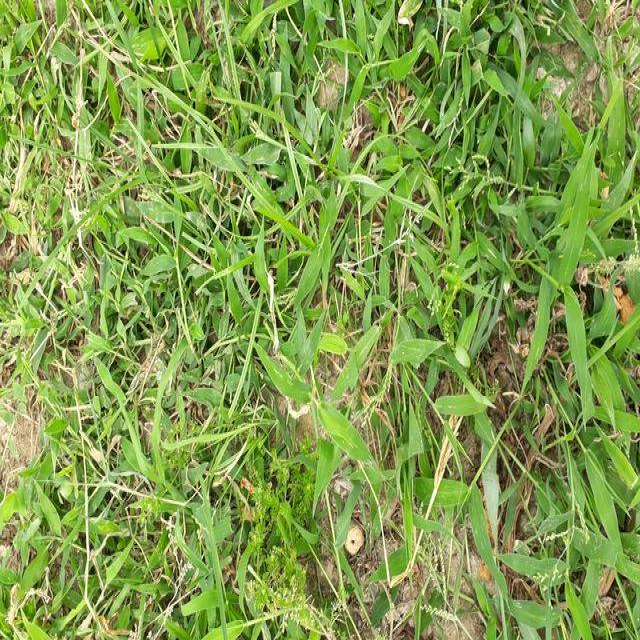weed: (513, 184, 640, 612), (293, 353, 510, 569), (158, 86, 346, 307), (410, 0, 550, 103)
